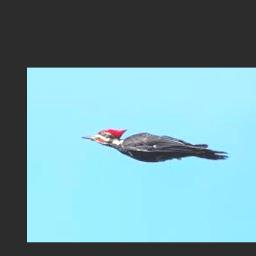Woodpecker: (83, 128, 230, 162)
